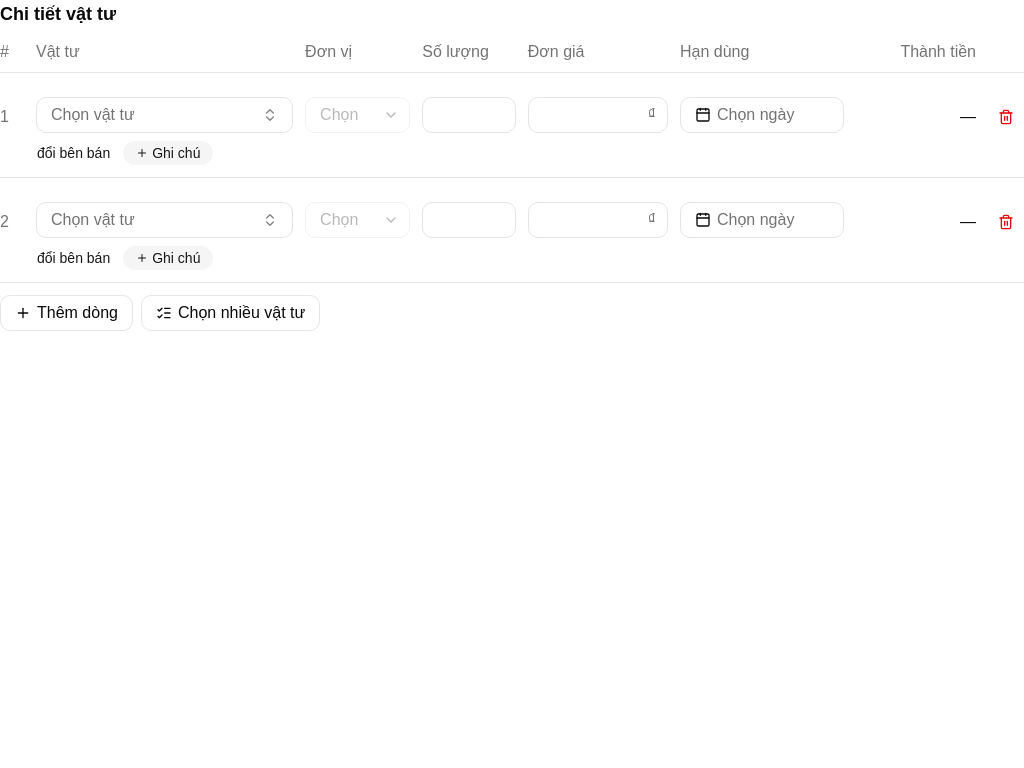
Test case: ImportFormItemsField › mở "đổi bên bán" rồi Esc không chọn gì → dòng quay lại "theo đầu phiếu", lại thấy nút "đổi bên bán"
The image size is (1024, 768).
Click the 2nd button "đổi bên bán".
click(74, 258)  # box [36,247,111,269]
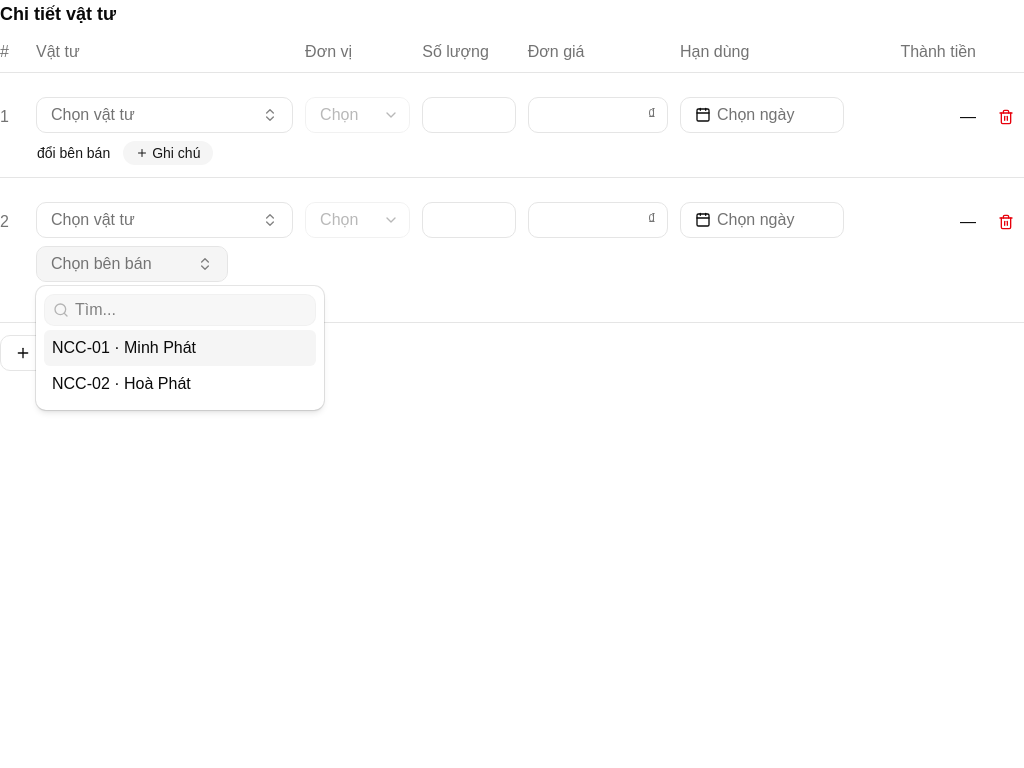
Expected: the option "NCC-02 · Hoà Phát" is shown, [52,375,191,392]
Press Escape
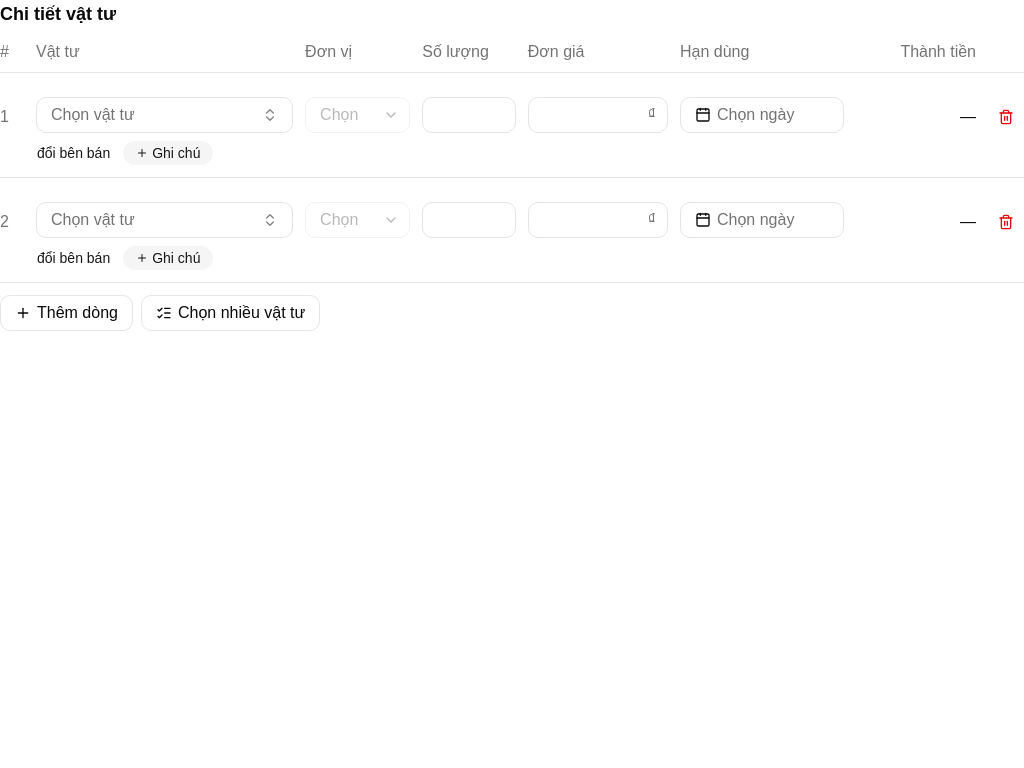
Expected: the 2nd button "đổi bên bán" is shown, [36,247,111,269]
Expected: the button "theo đầu phiếu" is gone
